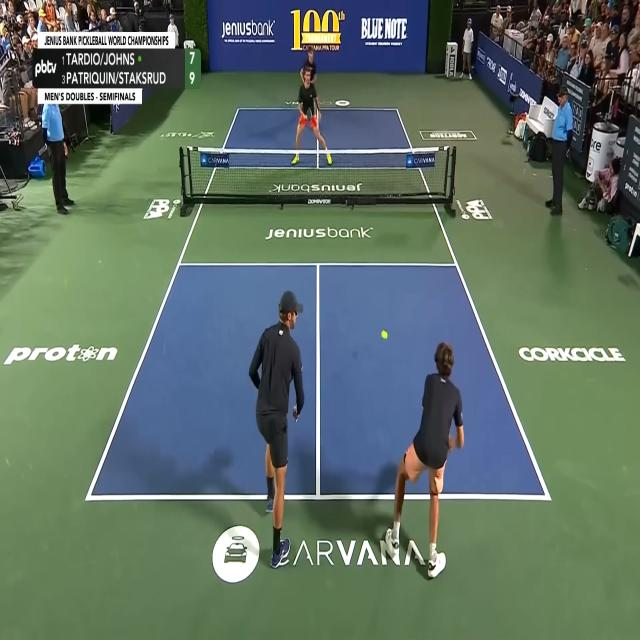ball: (381, 329, 388, 340)
